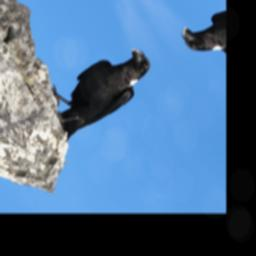Crow: (31, 42, 175, 143)
